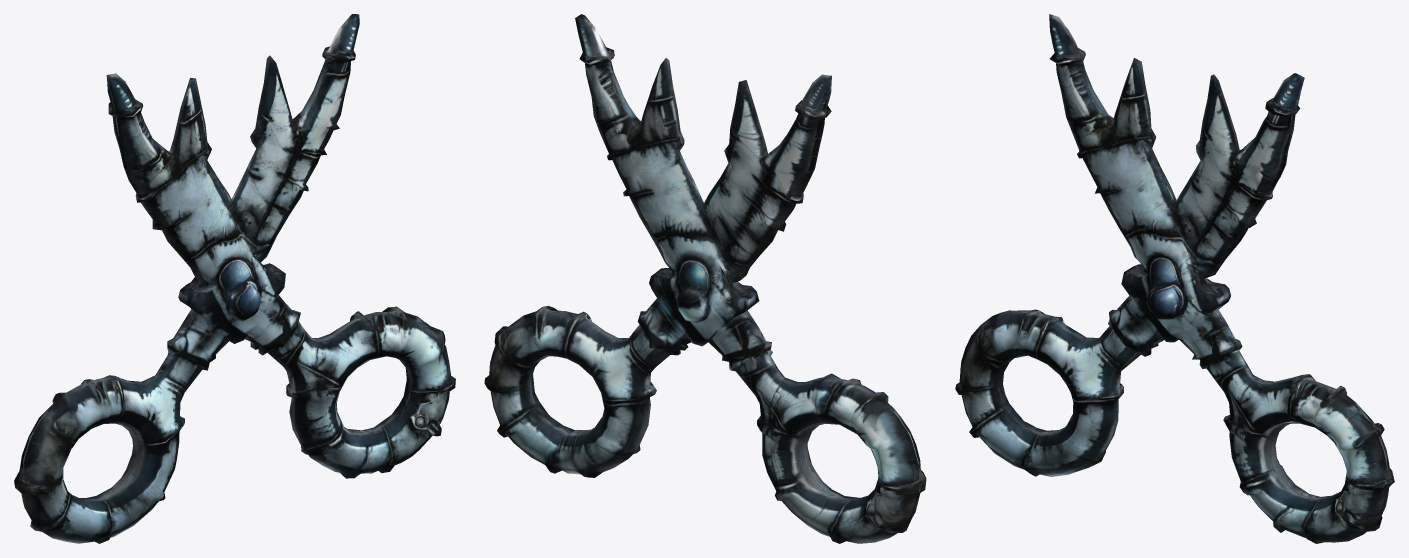
The model's file is Gnashpatch_Scissors.fbx.
The picture shows the model from 3 angles, left to right: view 1: azimuth 30°, elevation 25°; view 2: azimuth 150°, elevation 25°; view 3: azimuth 330°, elevation 25°; orthographic projection.
Visible parts, largest first — view 1: Mesh1_Mesh1.010; view 2: Mesh1_Mesh1.010; view 3: Mesh1_Mesh1.010.
Part boxes in pixels (x1=…): Mesh1_Mesh1.010: x1=14, y1=14, x2=455, y2=543; Mesh1_Mesh1.010: x1=484, y1=14, x2=926, y2=543; Mesh1_Mesh1.010: x1=955, y1=14, x2=1394, y2=543.
Size of the model in its own units: 196 by 200 by 26.27.
Materials: 1 (1 with a texture image).
